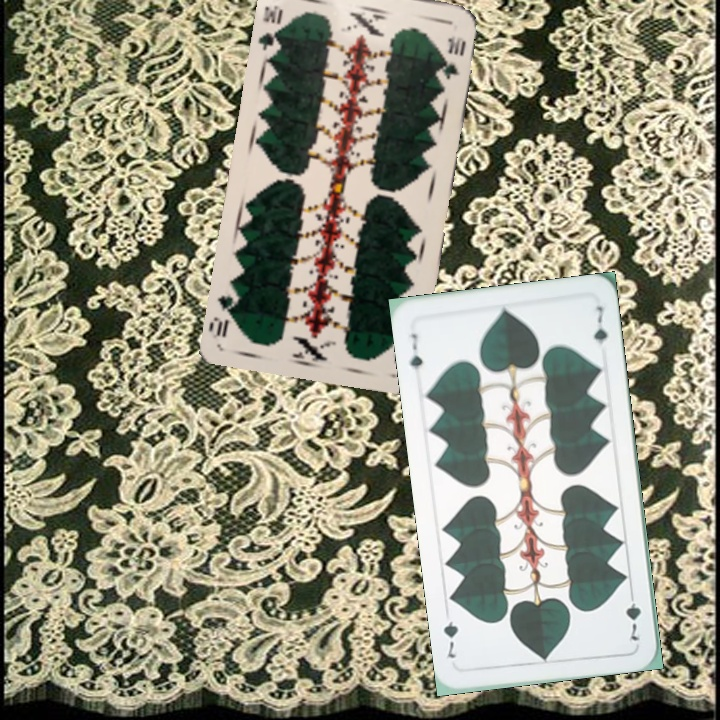G10: (254, 1, 286, 54)
G7: (622, 586, 644, 644), (406, 329, 425, 380)
